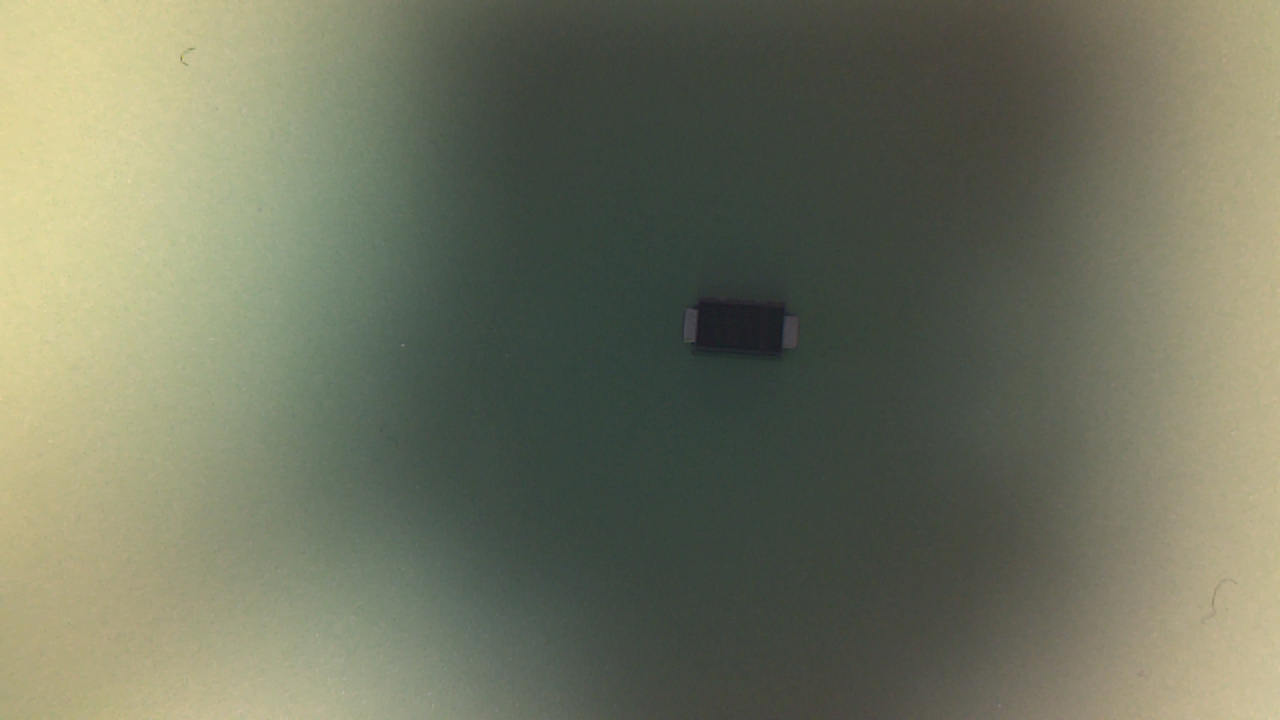Diode: (684, 299, 810, 367)
